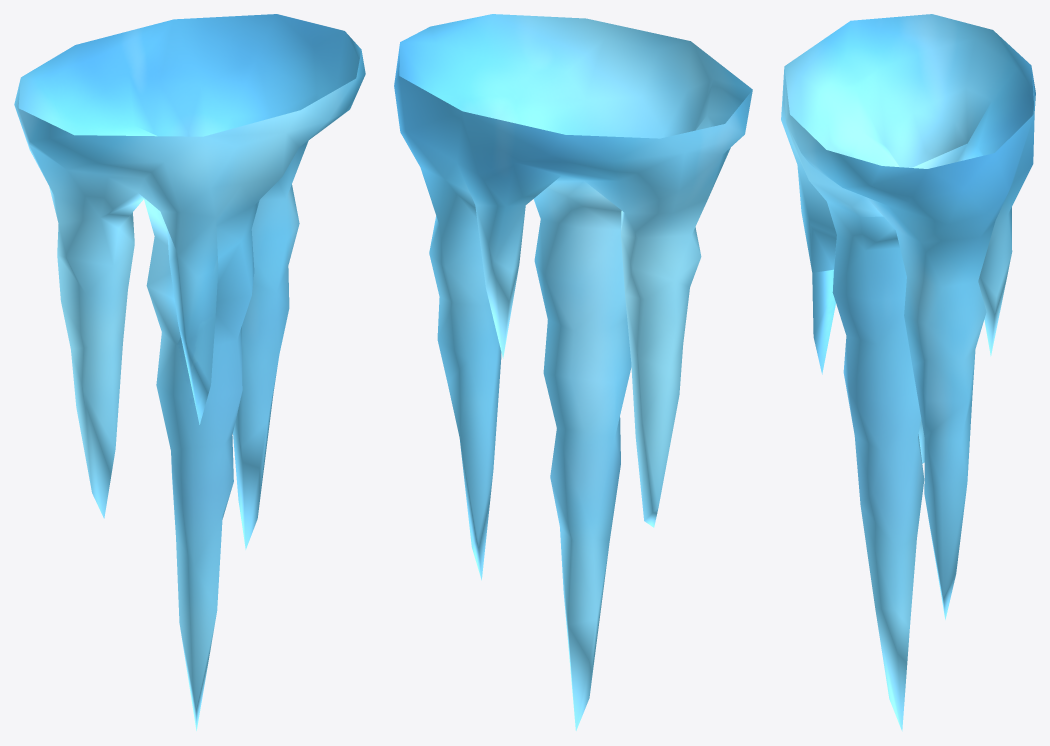
The model's file is SM_Icicle_Cluster_2.glb.
3 views of the same model, side by side, from view 1: azimuth 30°, elevation 25°; view 2: azimuth 150°, elevation 25°; view 3: azimuth 270°, elevation 25° (orthographic). The views are drawn at different scales.
Visible parts, largest first — view 1: SM_Icicle_Cluster_2; view 2: SM_Icicle_Cluster_2; view 3: SM_Icicle_Cluster_2.
Boxes of the visible parts, x1,y1,x2,y2 form: SM_Icicle_Cluster_2: (14,14,365,730); SM_Icicle_Cluster_2: (394,14,752,730); SM_Icicle_Cluster_2: (781,14,1035,731).
Size of the model in its own units: 0.6514 by 1.24 by 0.447.
1 material, 1 textured.
